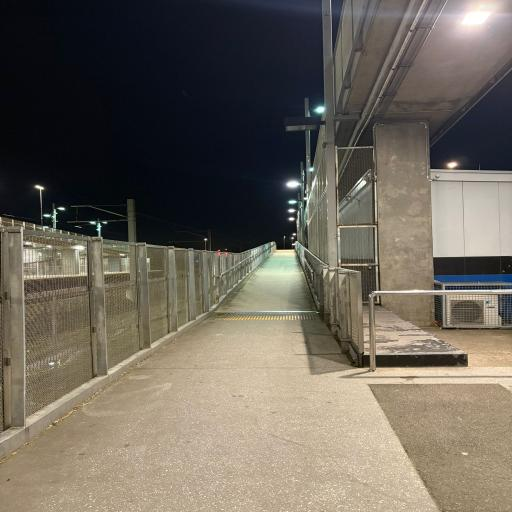clear_path: (10, 318, 505, 506)
handrail: (369, 285, 512, 371)
ramp: (219, 249, 314, 310)
tgsi: (210, 315, 316, 321)
